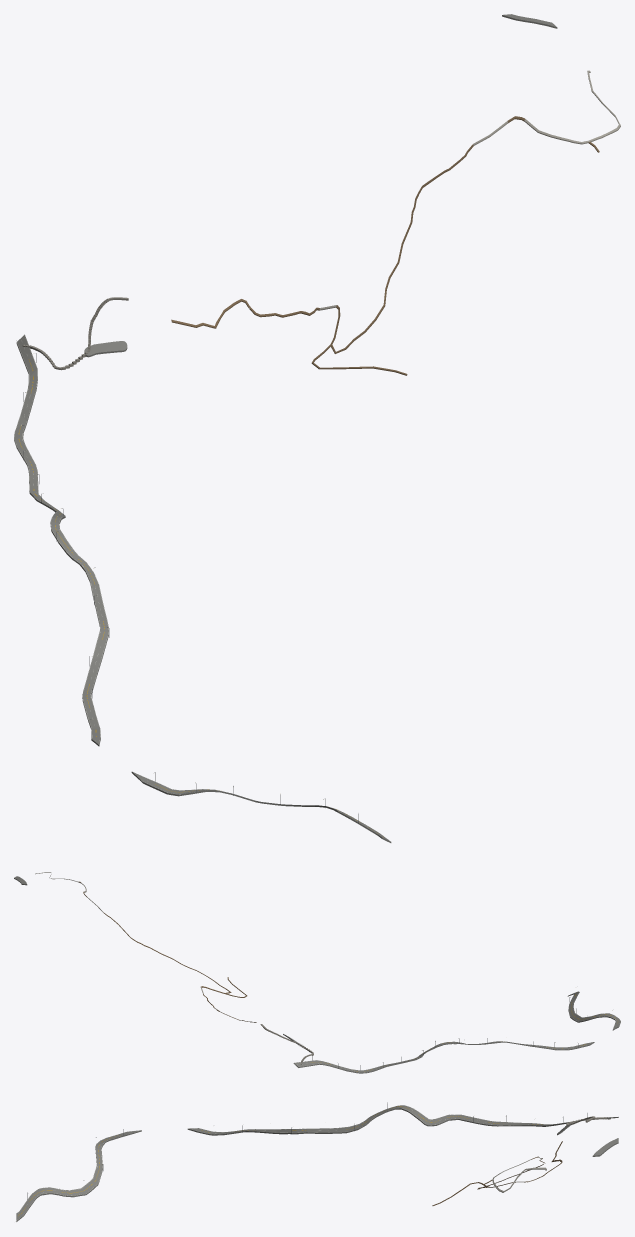
Rendered from 16-54735-29745.551a8fcb.glb.
3 views of the same model, one above another, from view 1: azimuth 30°, elevation 25°; view 2: azimuth 150°, elevation 25°; view 3: azimuth 270°, elevation 25° (orthographic). The views are drawn at different scales.
Bounding box in the file's own units: 587 × 288 × 588.
